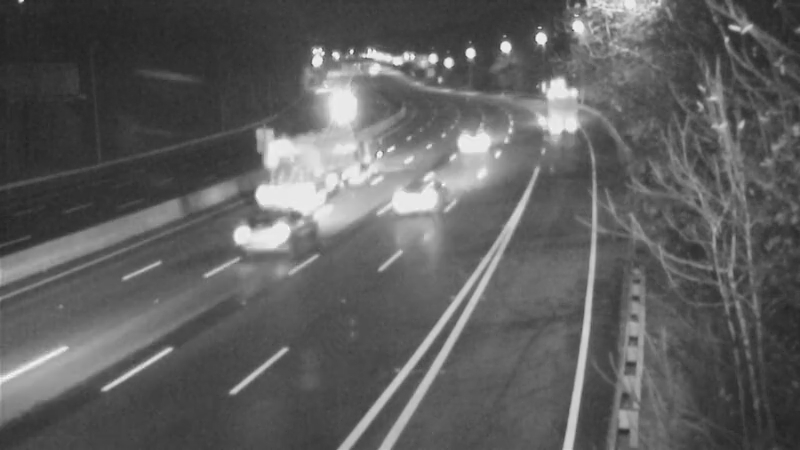vehicle: (267, 124, 347, 204), (384, 150, 464, 230), (221, 192, 301, 272), (530, 82, 580, 132), (449, 116, 499, 166), (314, 81, 364, 131)
